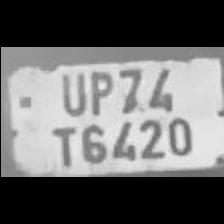0: (164, 110, 194, 158)
2: (134, 114, 164, 160)
4: (141, 63, 177, 111), (109, 115, 137, 163)
6: (76, 119, 106, 166)
7: (114, 65, 142, 113)
P: (82, 68, 112, 116)
T: (44, 122, 78, 168)
U: (56, 66, 84, 116)
